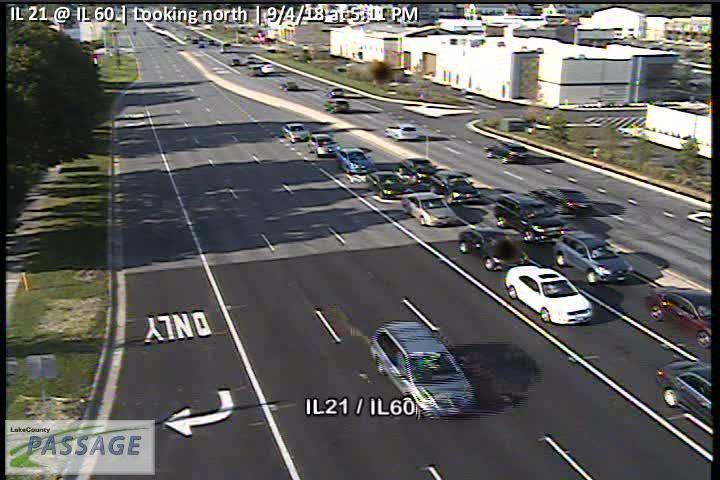SUV: (367, 321, 475, 420), (552, 230, 634, 285), (494, 193, 565, 238), (429, 170, 481, 204), (530, 187, 593, 214), (482, 139, 529, 164), (336, 147, 375, 174), (385, 123, 418, 141), (324, 98, 349, 113), (327, 86, 345, 97)
Sedan: (505, 264, 594, 326), (644, 285, 714, 348), (655, 359, 714, 428), (459, 226, 529, 272), (401, 191, 457, 228), (367, 170, 407, 199), (400, 157, 437, 182), (307, 132, 339, 156), (280, 122, 310, 143), (279, 80, 298, 91)
